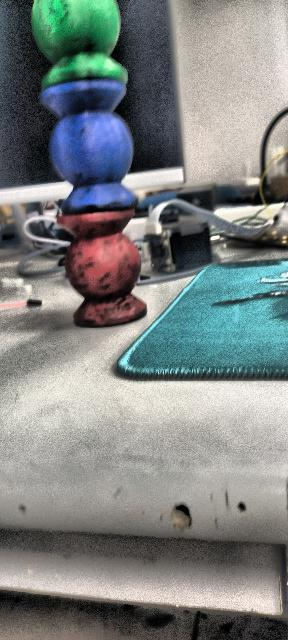blue: (33, 78, 141, 213)
green: (27, 0, 128, 87)
red: (53, 208, 146, 330)
